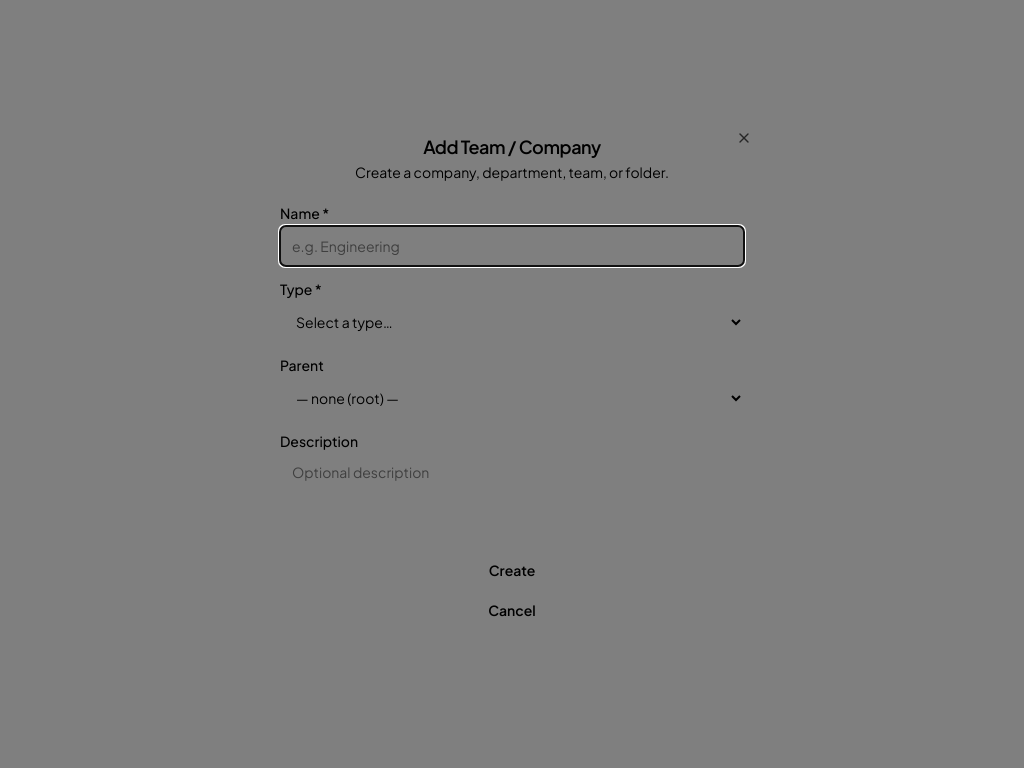
Test case: AddTeamModal › (6) inline error on server failure, modal stays open
This screenshot has width=1024, height=768.
Type "Fail Co" into the field labelled "Name *".
click(512, 246); type("Fail Co")  # box [280,226,744,266]
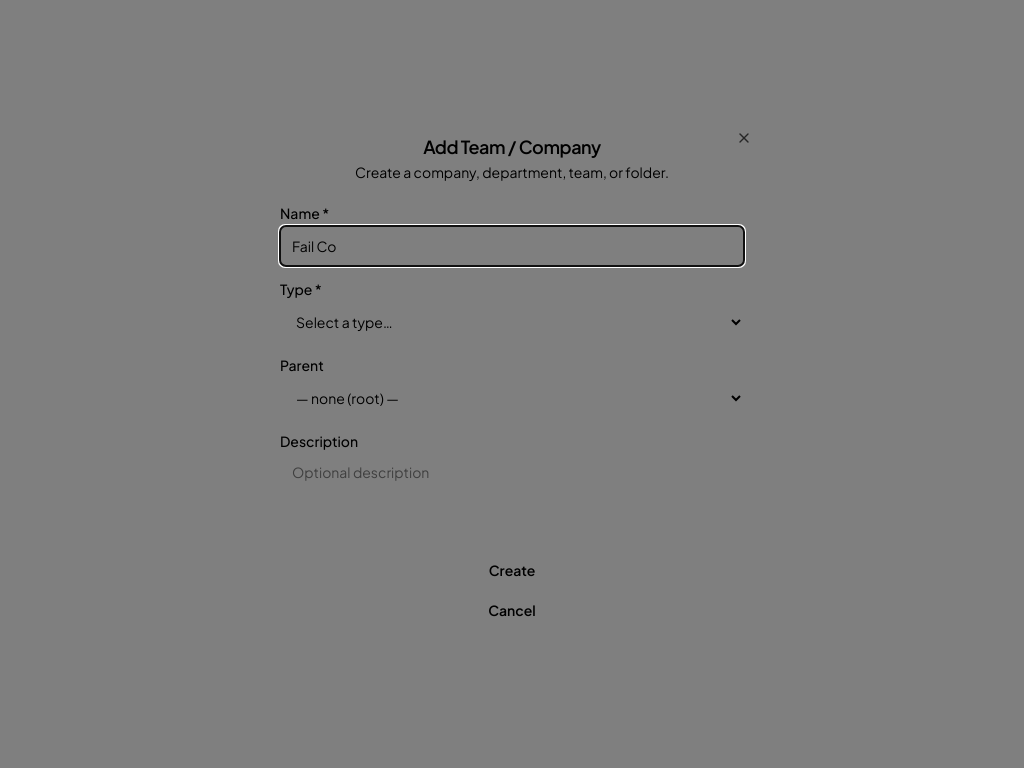
Select "Company" in the dropdown with test id "select-type" at point(512, 322), box [280,302,744,342]
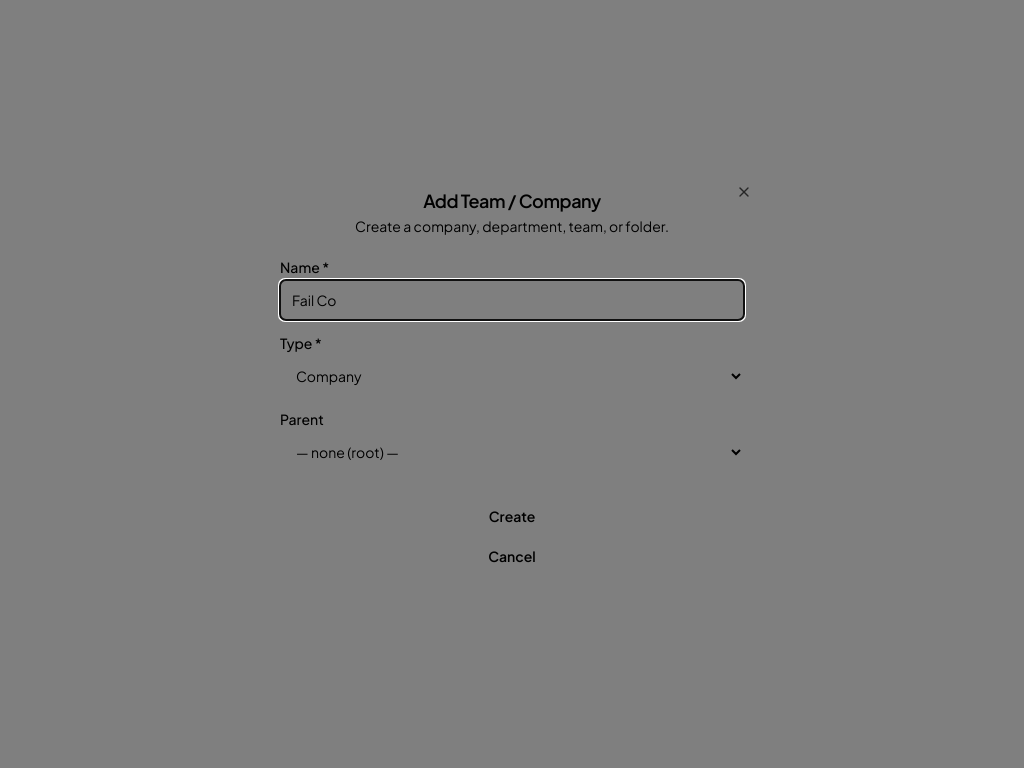
Click the button "Create".
click(512, 516)  # box [280,496,744,536]
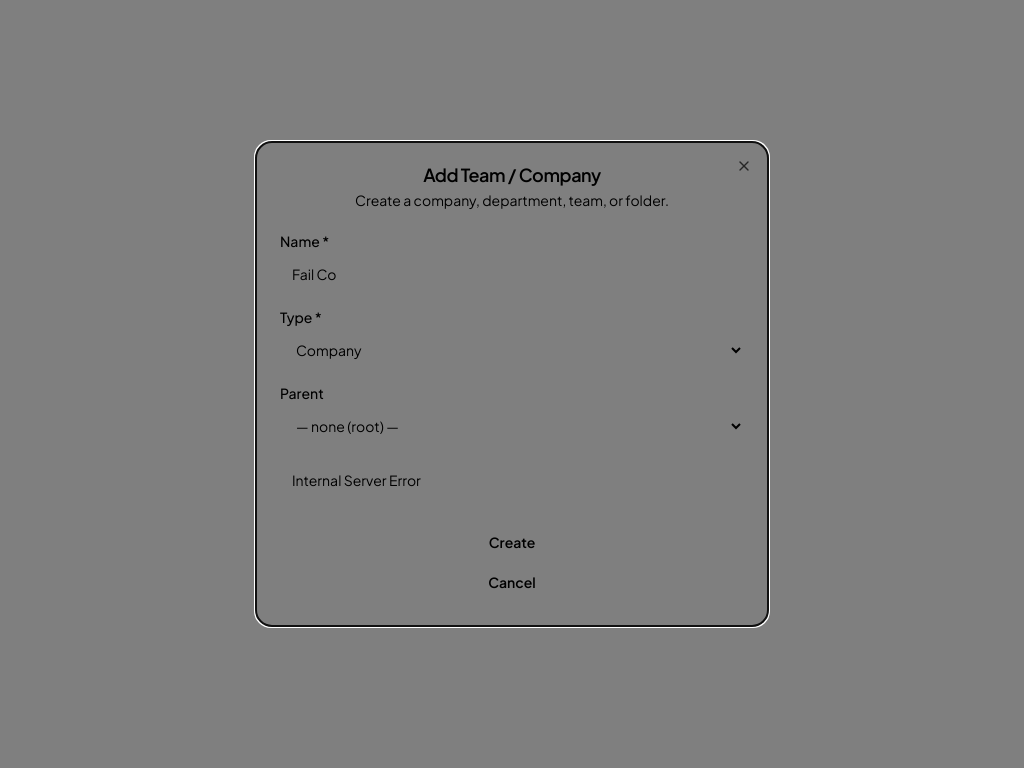
Result: the message "Internal Server Error" is shown at [292,471,421,489]
